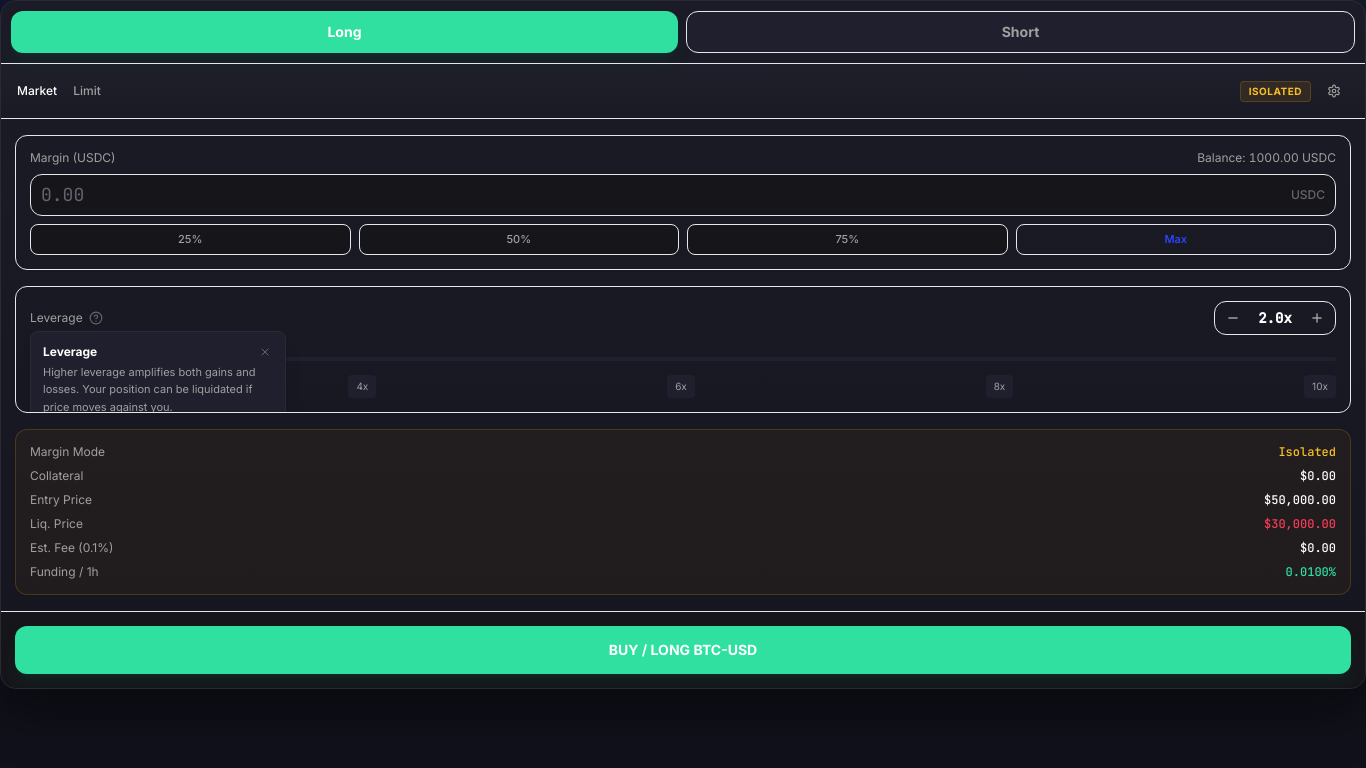
Test: TradingForm › correctly calculates notional value and fees in summary
Type "100" into the number field with test id "margin-input" at (662, 195), box x1=41 y1=181 x2=1283 y2=209
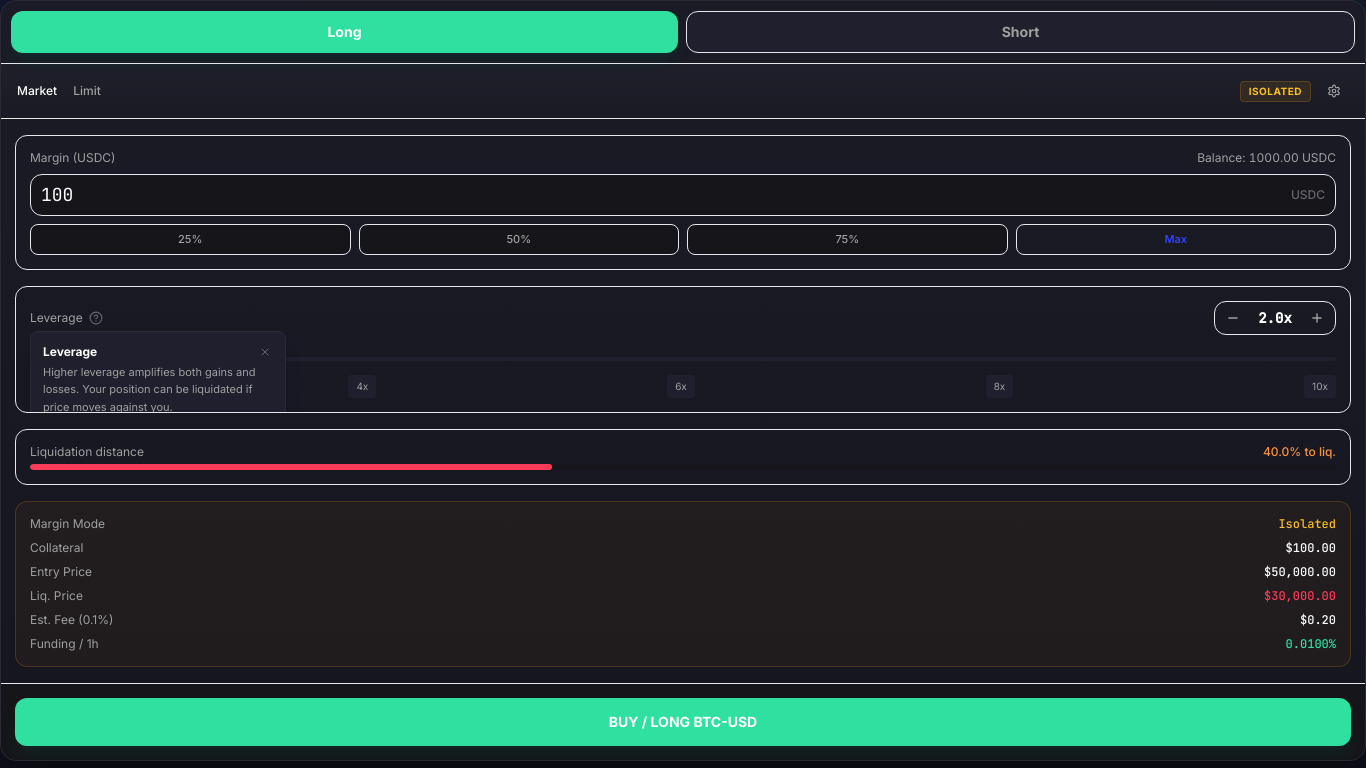
Expected: the text "Est. Fee (0.1%)" is shown, x1=30 y1=612 x2=113 y2=628
Now the text "$100.00" is shown, box x1=1286 y1=540 x2=1336 y2=556
